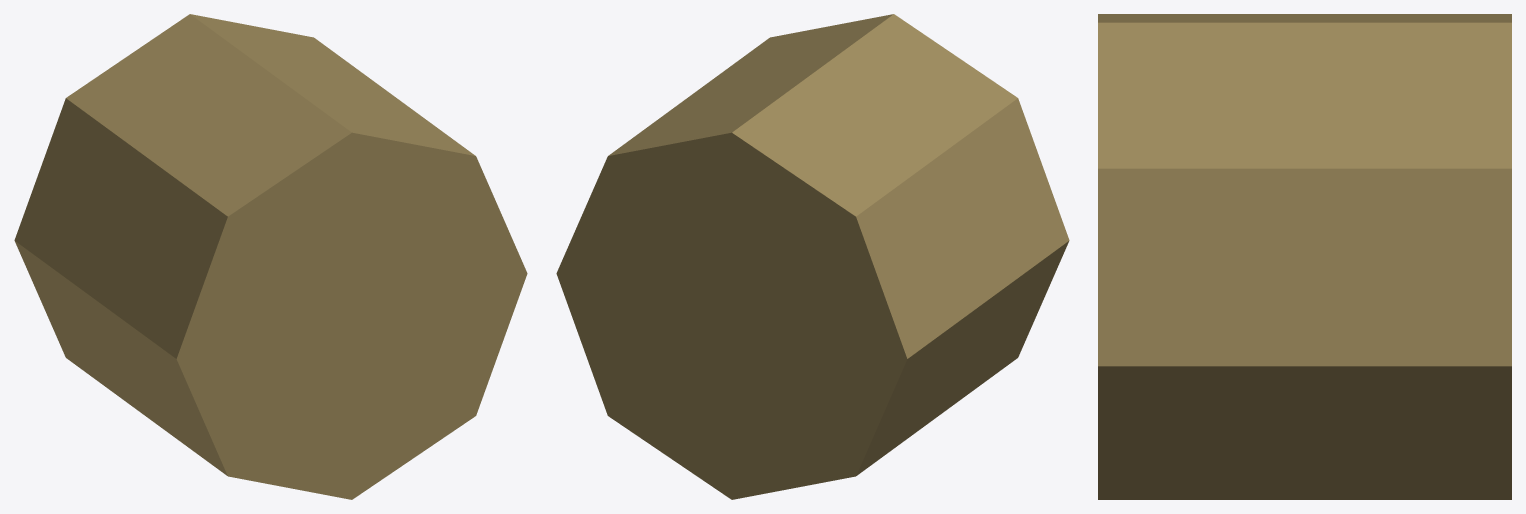
File: SM_Prop_farm_bale_0_LOD1.glb
The picture shows the model from 3 angles, left to right: view 1: azimuth 30°, elevation 25°; view 2: azimuth 150°, elevation 25°; view 3: azimuth 270°, elevation 25°; orthographic projection. The views are drawn at different scales.
Parts seen in each view (by area): view 1: SM_Prop_farm_bale_0_LOD1; view 2: SM_Prop_farm_bale_0_LOD1; view 3: SM_Prop_farm_bale_0_LOD1.
Part boxes in pixels (<box>): SM_Prop_farm_bale_0_LOD1: <box>14,14,527,499</box>; SM_Prop_farm_bale_0_LOD1: <box>556,14,1069,499</box>; SM_Prop_farm_bale_0_LOD1: <box>1098,14,1511,499</box>.
Bounding box in the file's own units: 1.5 × 1.5 × 1.2.
